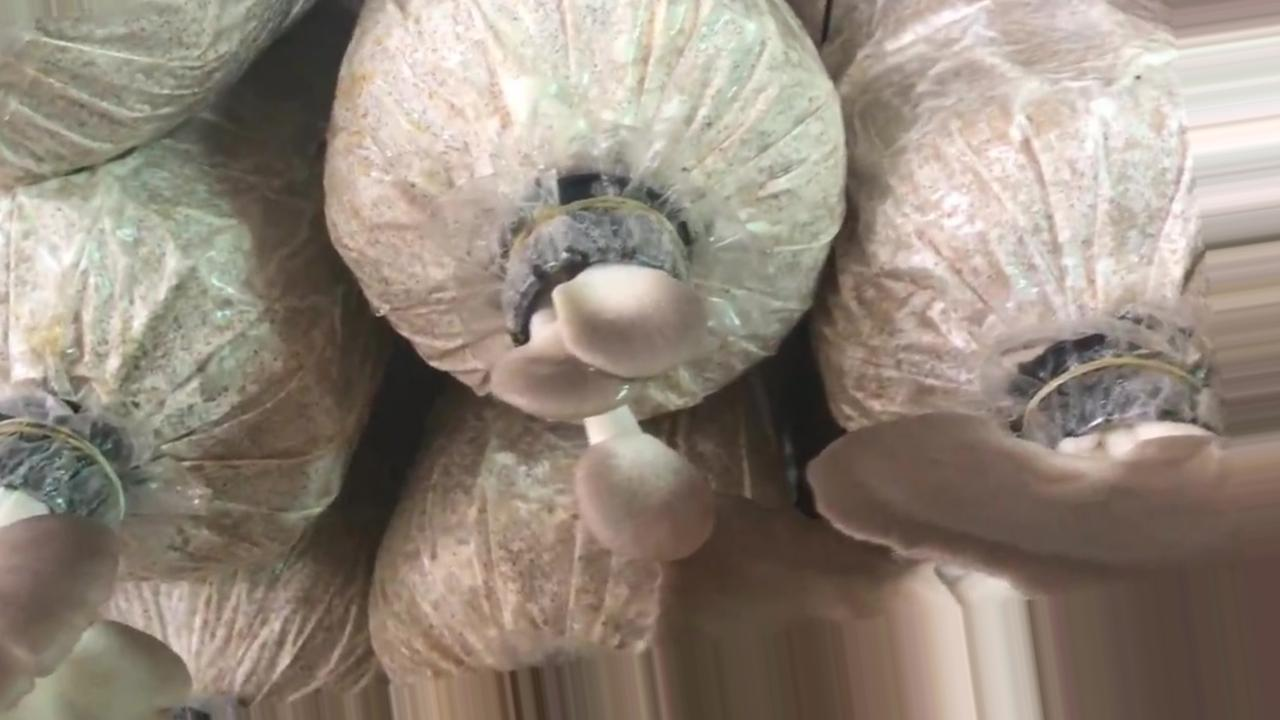nam: (657, 360, 1280, 720), (496, 205, 716, 556), (1, 417, 185, 720)
